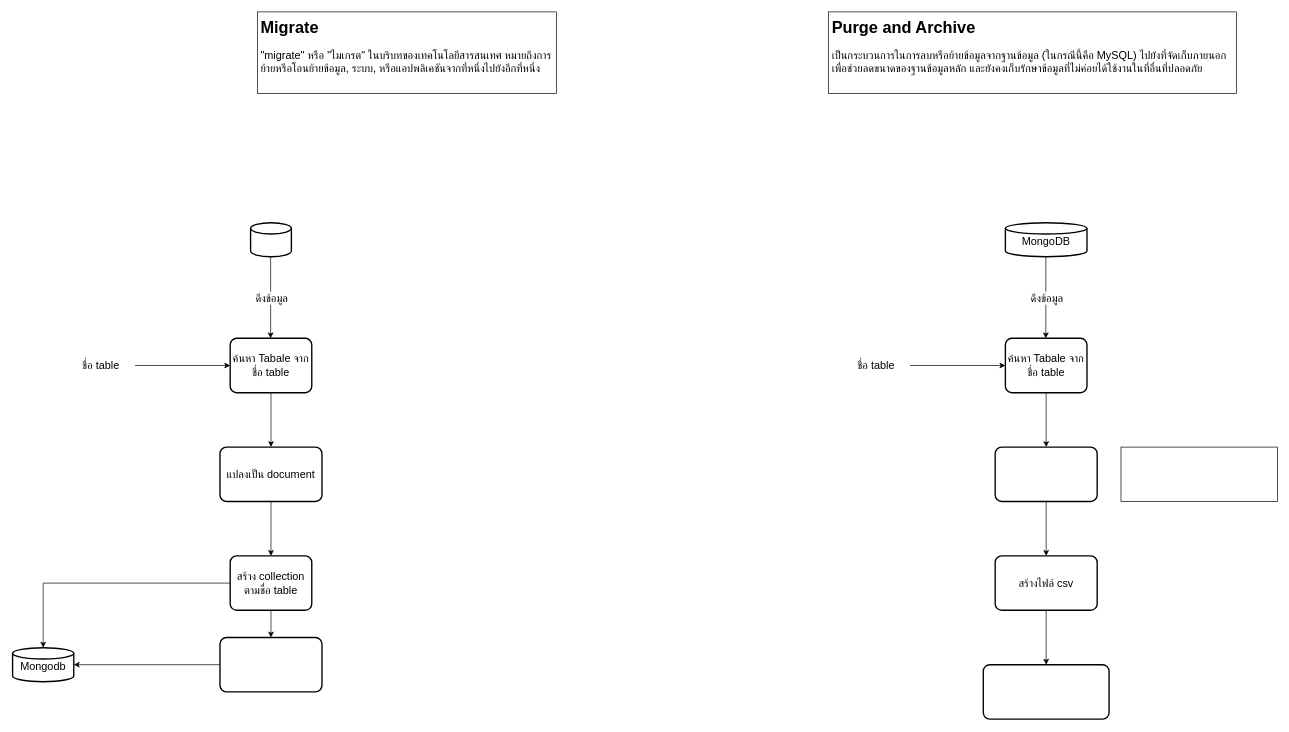
Some shapes in this 1289 by 732 pixel diagram are drawn without their labels. Here are the shapes that lost their labels. From the top down, the centre of each, then its label:
point (271, 239): Mysql
point (1046, 474): แปลงเป็น csv
point (1198, 474): Mysql script Csv
point (270, 664): insert document
point (1045, 691): ลบข้อมูลใน MongoDB
